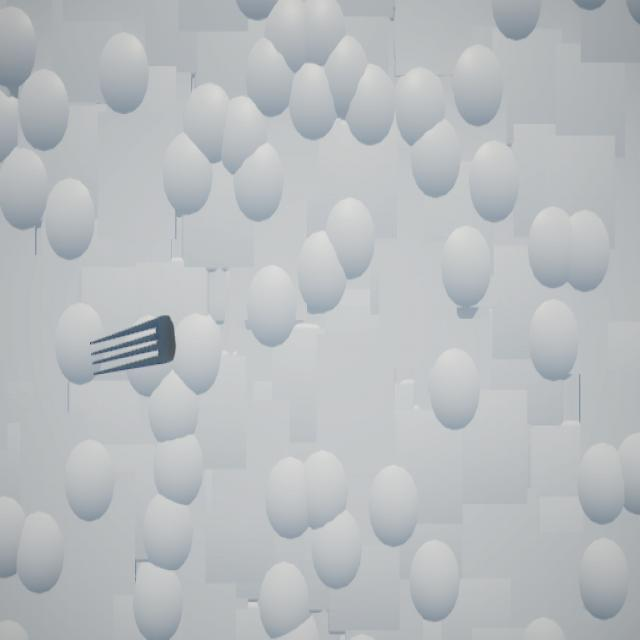top_folk: (91, 316, 177, 376)
